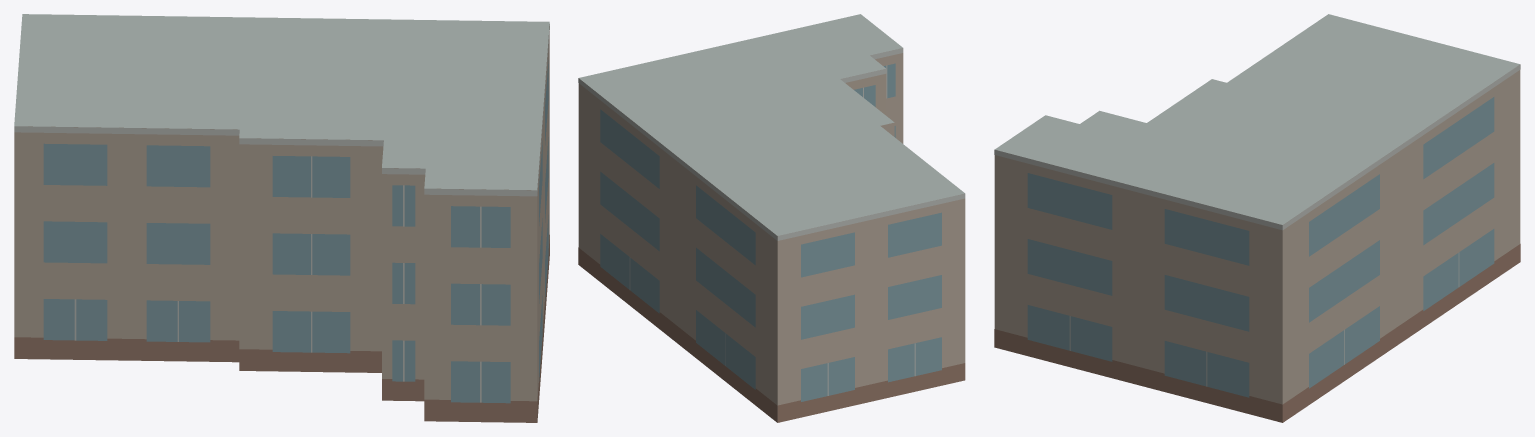
Rendered from survey-upis-32990287.glb.
3 views of the same model, side by side, from view 1: azimuth 30°, elevation 25°; view 2: azimuth 150°, elevation 25°; view 3: azimuth 270°, elevation 25° (orthographic). The views are drawn at different scales.
Visible parts, largest first — view 1: survey-upis-32990287.tmp; view 2: survey-upis-32990287.tmp; view 3: survey-upis-32990287.tmp.
Boxes of the visible parts, x1,y1,x2,y2 form: survey-upis-32990287.tmp: (14,14,549,422); survey-upis-32990287.tmp: (578,14,965,422); survey-upis-32990287.tmp: (994,14,1520,422).
Bounding box in the file's own units: 20.94 × 9.15 × 22.05.
